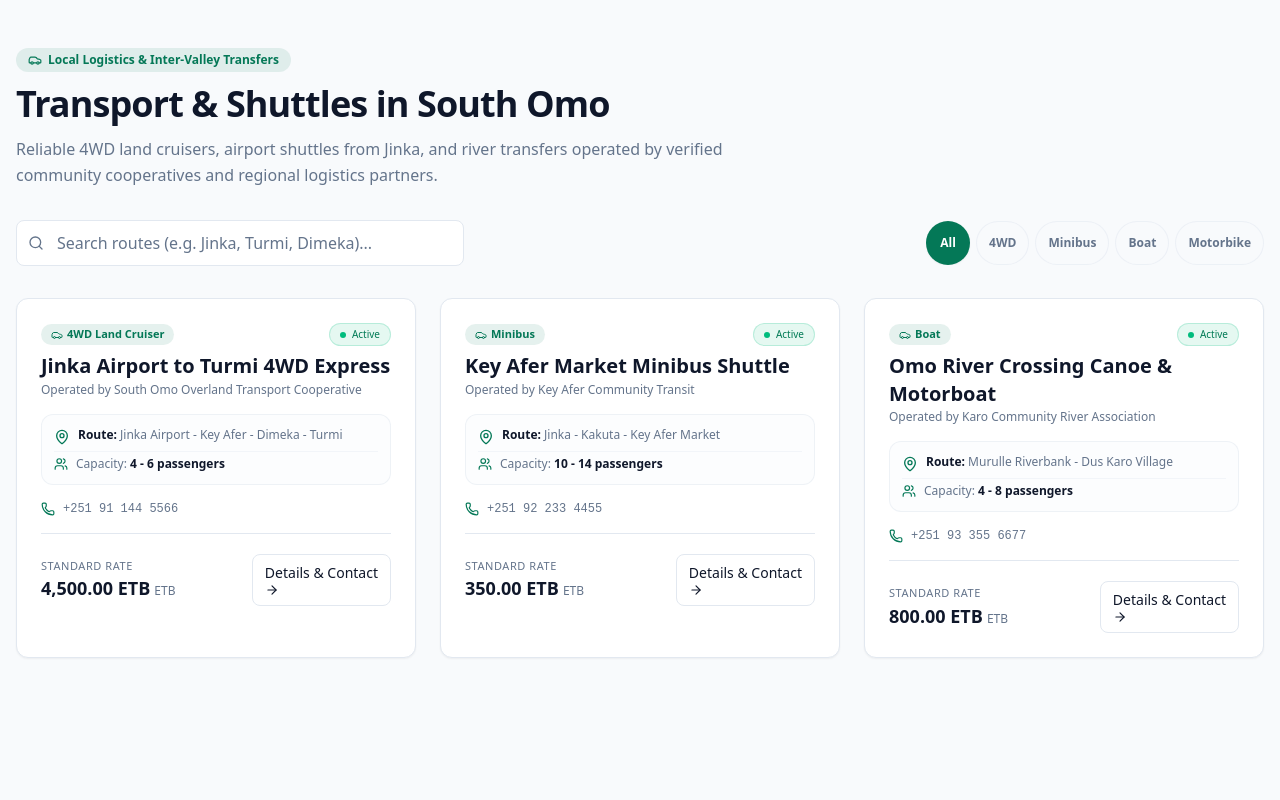
Test: Transport services (F-306) › renders empty state when no services match filter and resets
Expected: the heading "Jinka Airport to Turmi 4WD Express" is shown, [41,352,391,380]
Step 1. Type "NonexistentRouteXYZ" into the field with placeholder "Search routes (e.g. Jinka, Turmi, Dimeka)..." → (240, 243), box [16,220,464,266]
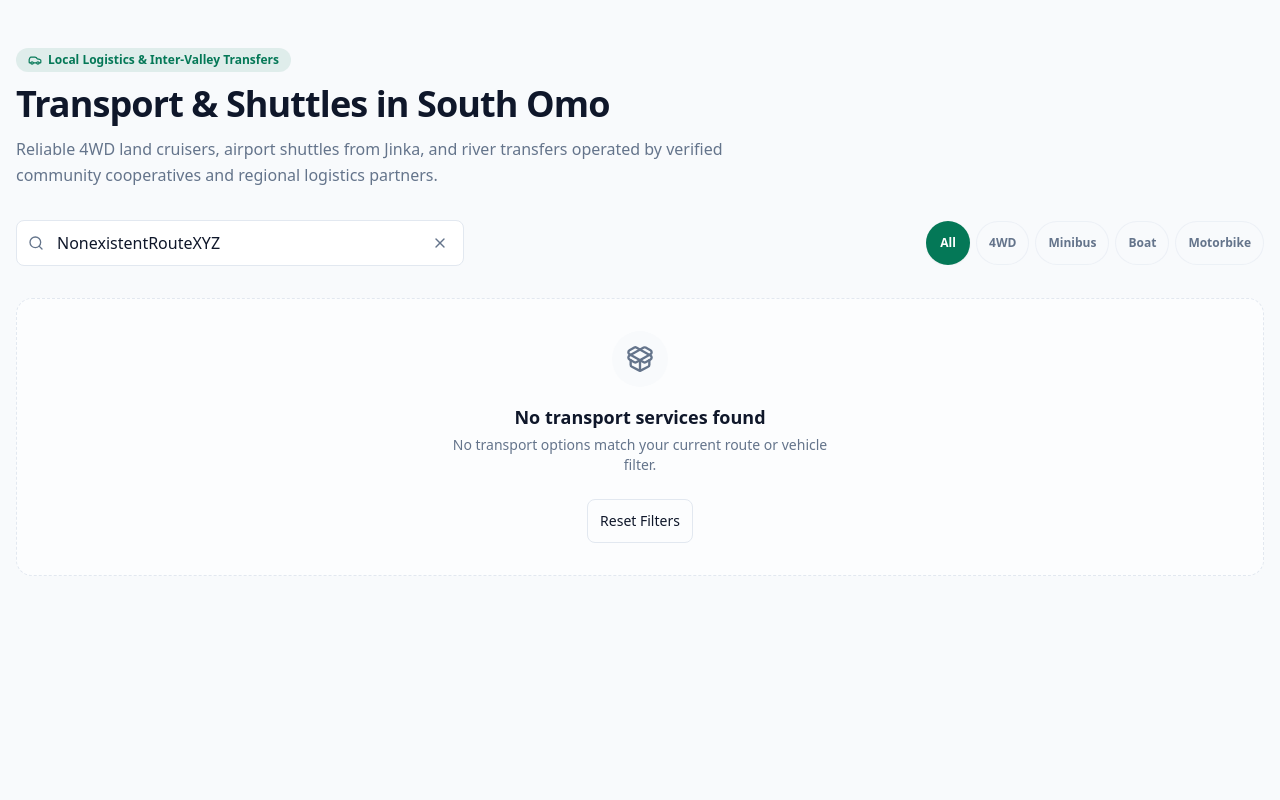
Now the element with test id "transport-empty" is shown, box [16,298,1264,576]
Now the text "No transport options match your current route" is shown, box [453,435,827,474]
Reset filters
Step 2. Click the button with test id "reset-transport-filter" → (640, 521), box [587,499,693,543]
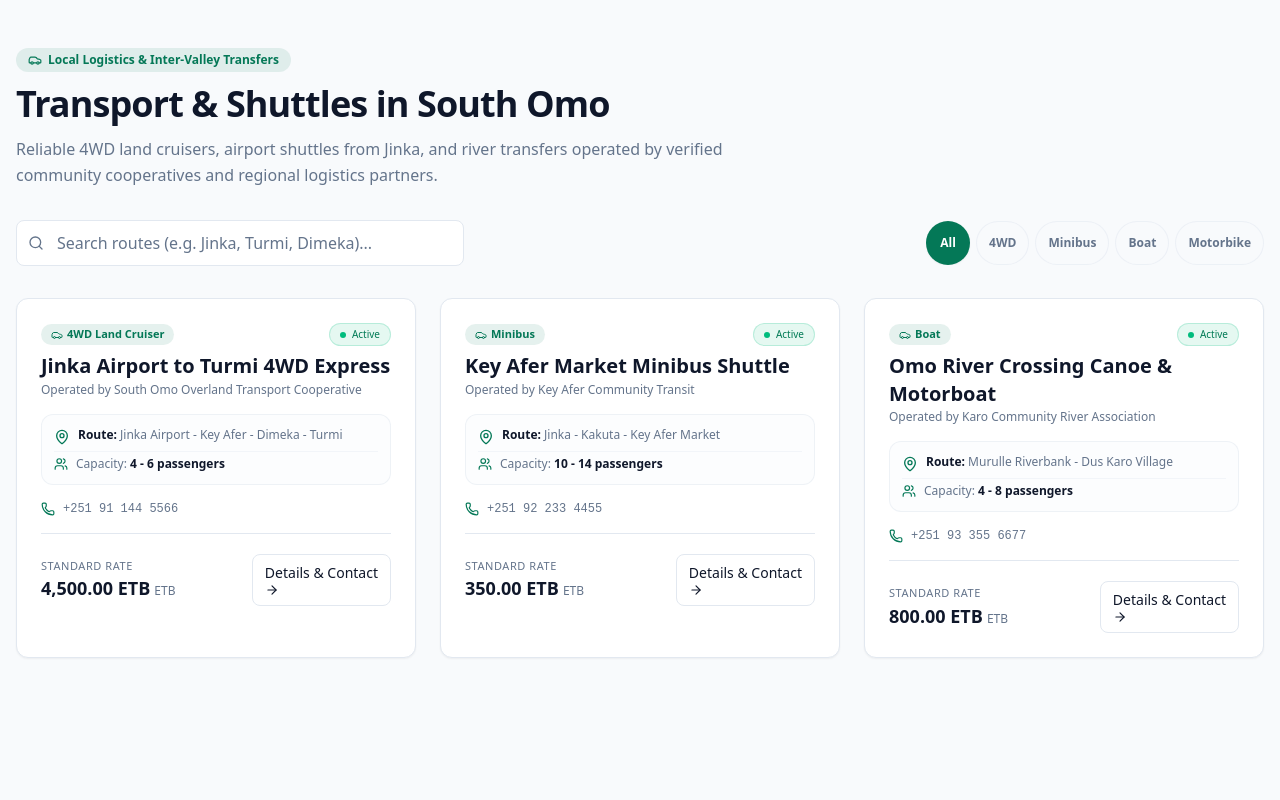
Now the heading "Jinka Airport to Turmi 4WD Express" is shown, box [41,352,391,380]
